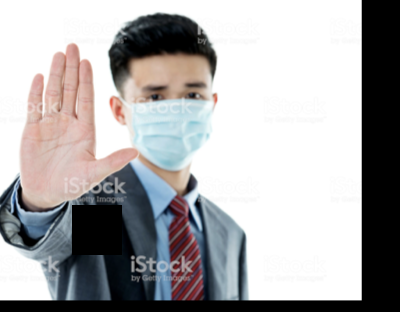with_mask: (124, 76, 212, 173)
